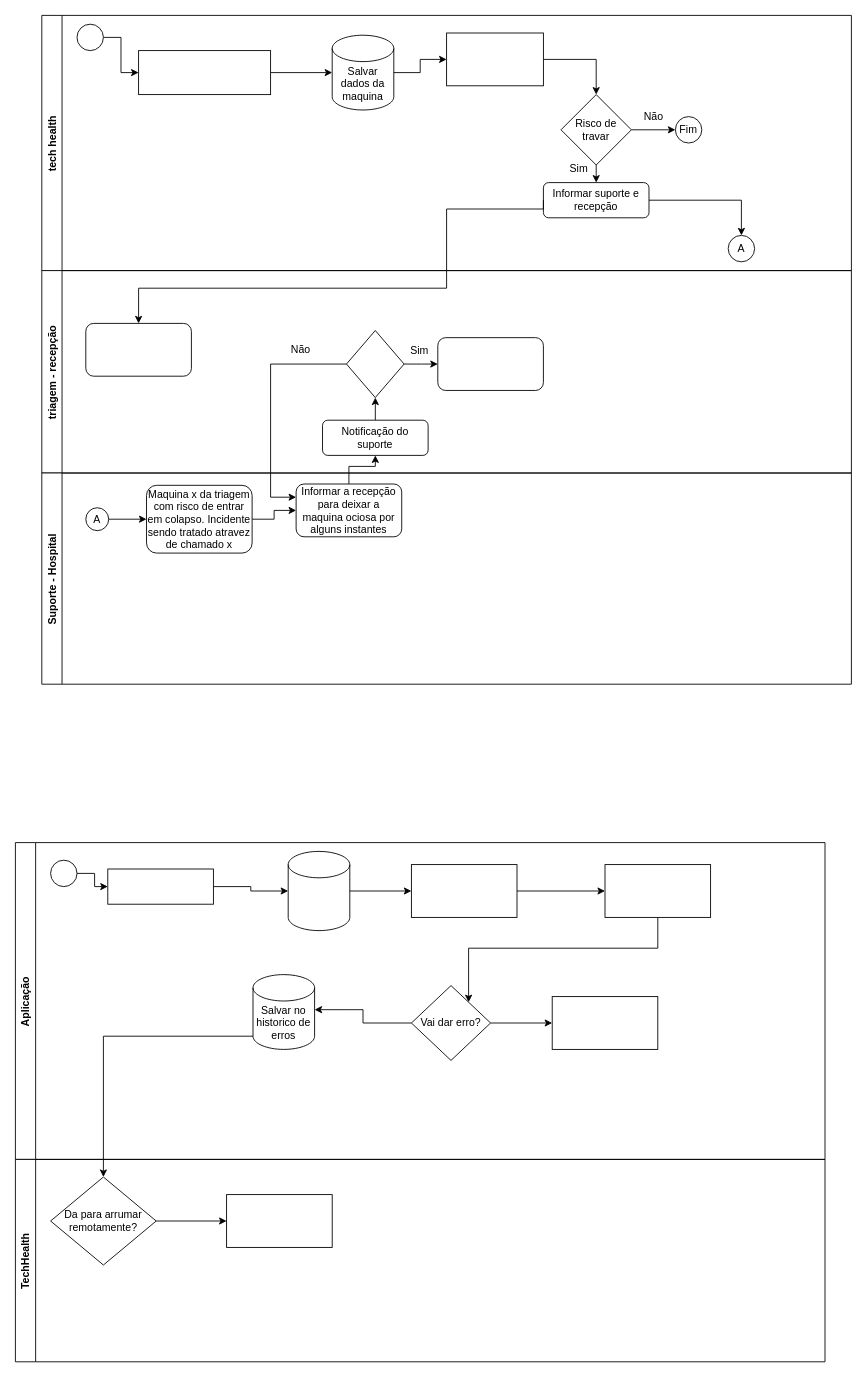
This 867x1377 diagram has some shape labels left out. The centre of each missing label's shape, as x and y in pixels:
Apresentar dados em Dashboard: pixel 494 59
Apresentar medidas na dashboard: pixel 464 890
Atualizar dashboard em tempo real: pixel 657 890
Capturar dados da maquina: pixel 160 886
Inicio: pixel 89 37
Maquina em risco de entrar em colapso: pixel 138 349
Maquina ociosa?: pixel 375 364
Monitorar máquina remotamente atraves API Tech Health: pixel 204 72
Salvar medidas na base de dados: pixel 318 891
